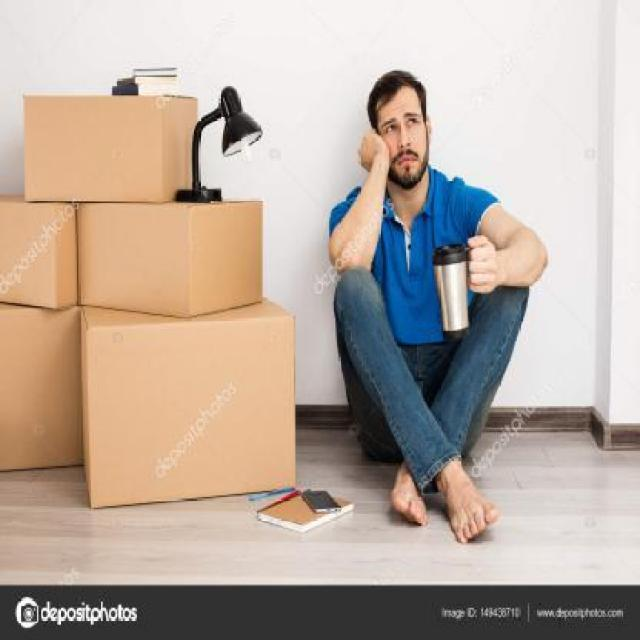box: (83, 295, 313, 509), (79, 198, 269, 315), (23, 91, 205, 201), (0, 289, 93, 476), (0, 201, 77, 310)
